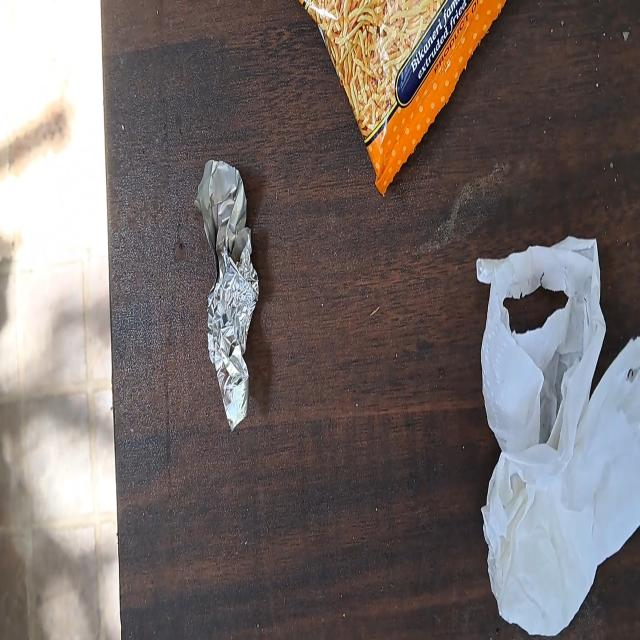Anorganik: (297, 0, 509, 199), (196, 159, 258, 428)
Organik: (477, 238, 640, 636)
